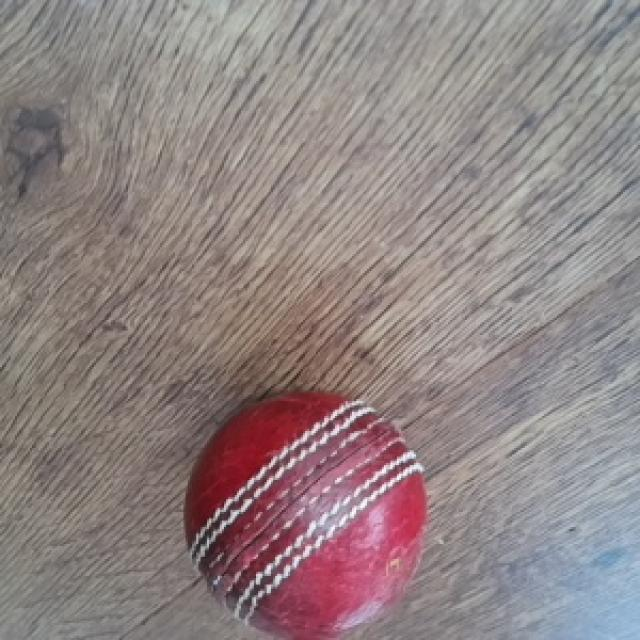ball: (180, 396, 426, 636)
